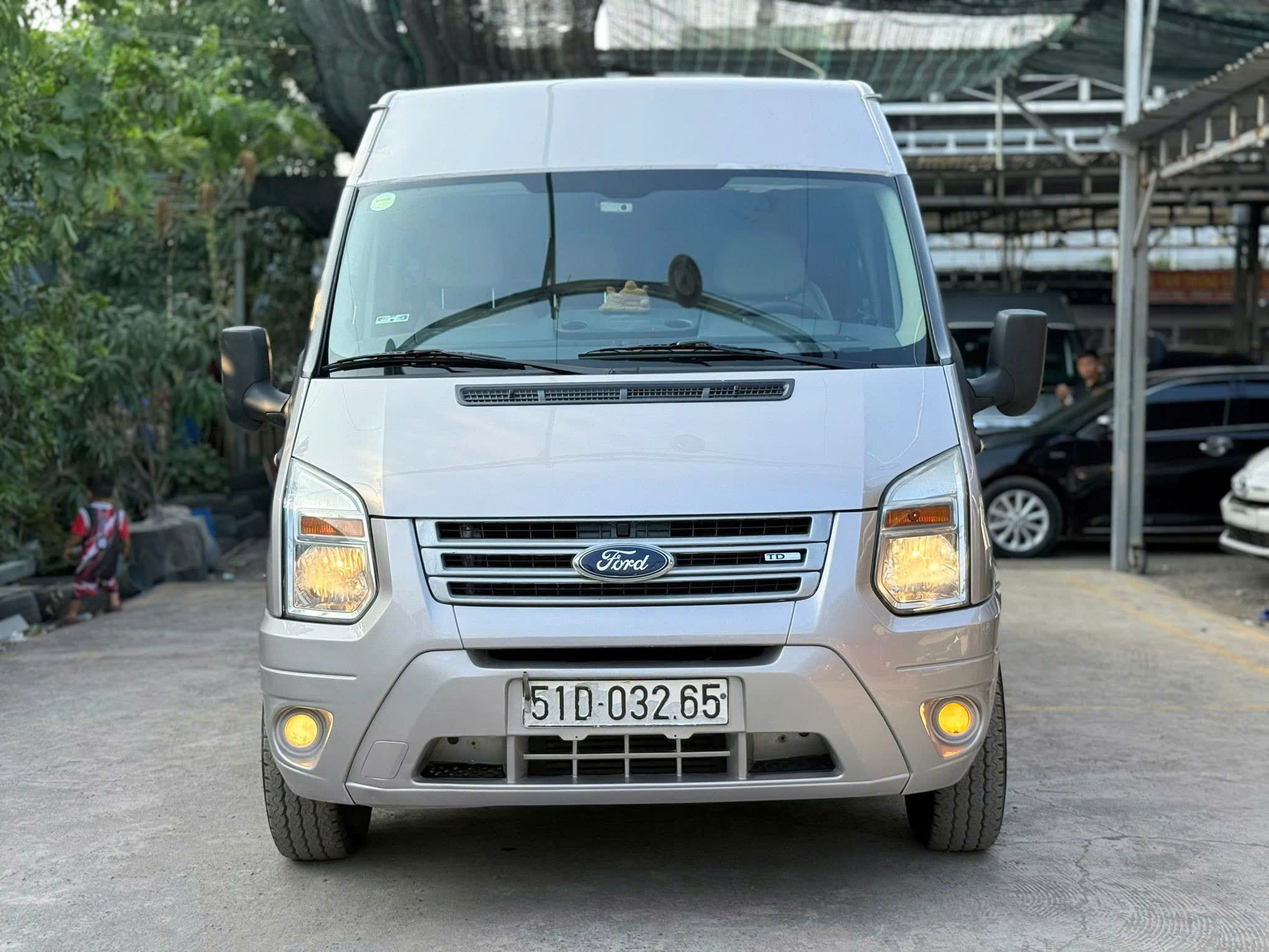Bien-so: (522, 680, 730, 722)
